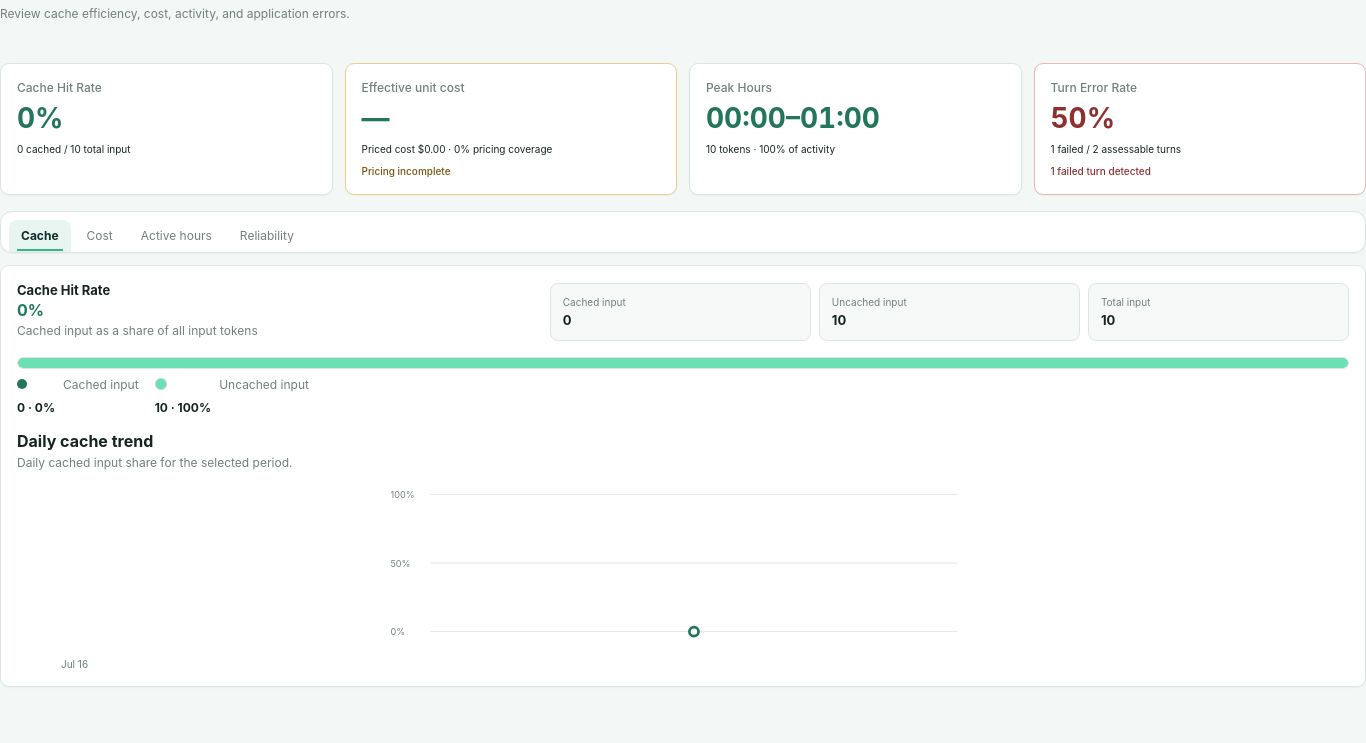
it: PerformanceView › renders real completed, failed, and interrupted turn details
The width and height of the screenshot is (1366, 743).
Expected: the text with test id "performance-summary-error-value" reads "50%", [1050, 101, 1115, 135]
Click the tab "Reliability" at (267, 236), box [228, 220, 306, 252]
(page scrolled)
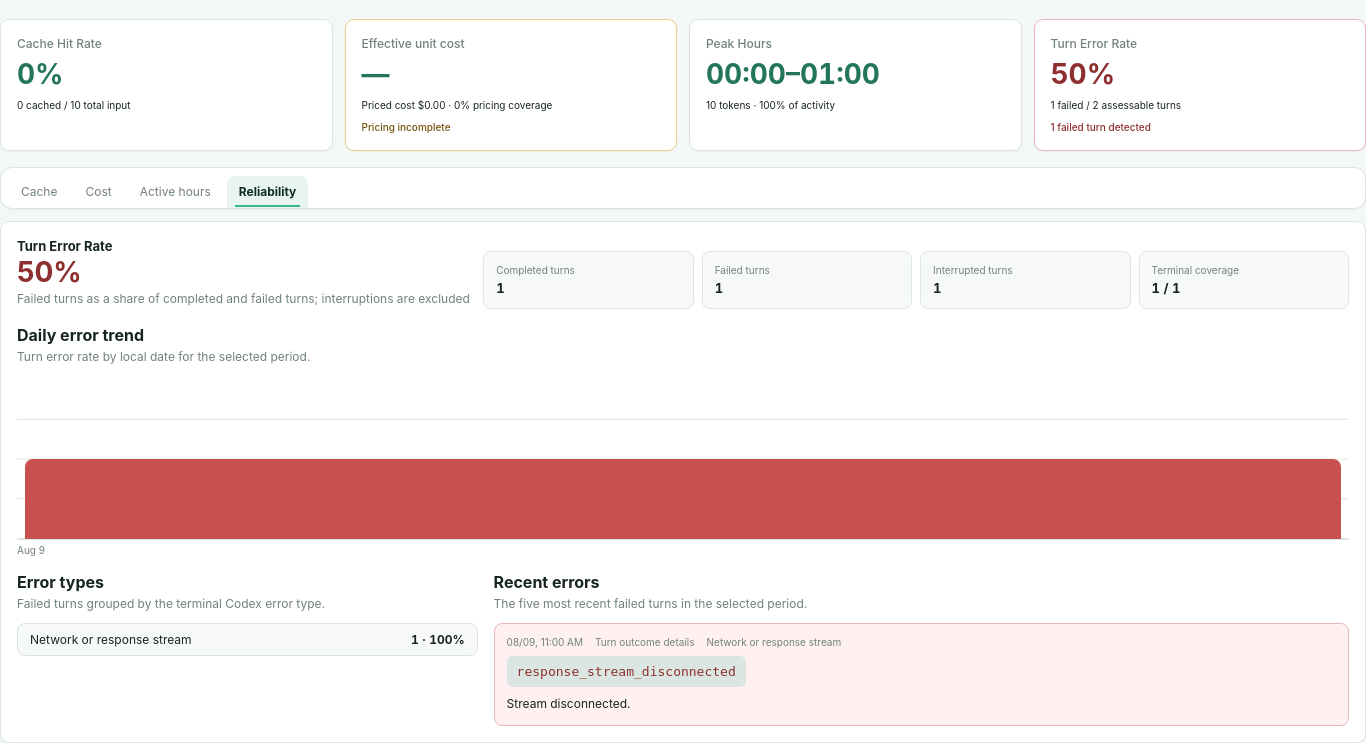
Result: the element with test id "error-rate-summary" is shown at [17, 238, 1349, 309]
Result: the text "Completed turns" is shown at [496, 264, 575, 276]
Result: the text "Failed turns" is shown at [715, 264, 770, 276]
